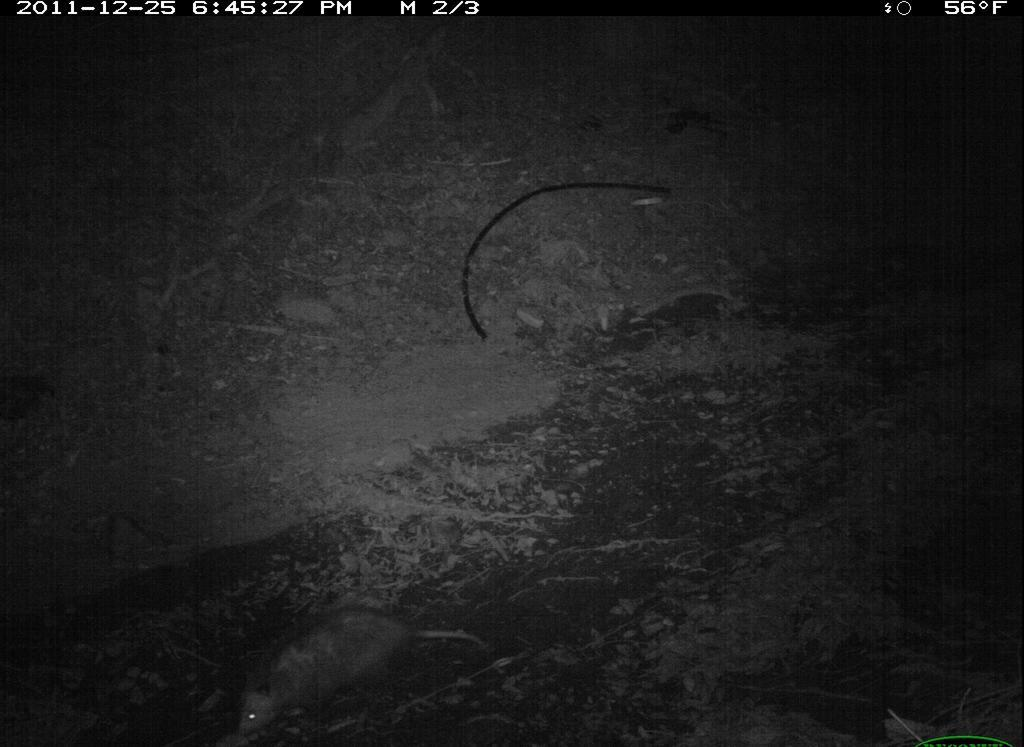opossum: (228, 597, 498, 737)
